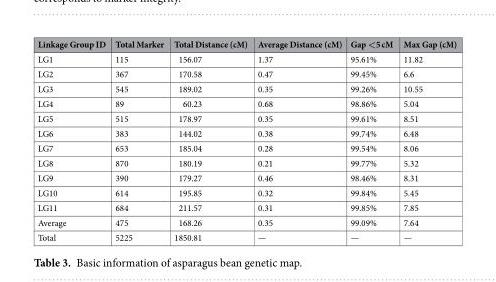table: (36, 37, 456, 242)
table column: (251, 37, 345, 242), (168, 37, 251, 242), (36, 37, 109, 242), (109, 37, 168, 242), (397, 37, 456, 242), (345, 37, 397, 242)
table column header: (36, 37, 456, 51)
table row: (36, 51, 456, 66), (36, 80, 456, 95), (36, 95, 456, 110), (36, 110, 456, 125), (36, 125, 456, 140), (36, 140, 456, 155), (36, 155, 456, 170), (36, 184, 456, 199), (36, 199, 456, 214), (36, 214, 456, 229), (36, 37, 456, 51), (36, 66, 456, 80), (36, 170, 456, 184), (36, 229, 456, 242)
